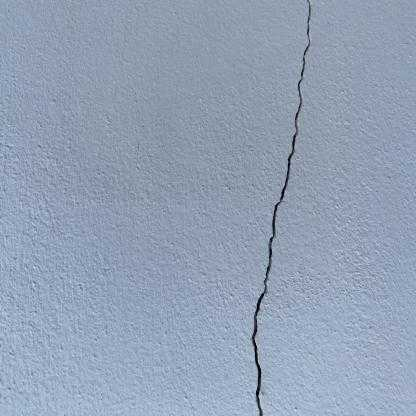crack: (250, 2, 312, 414)
